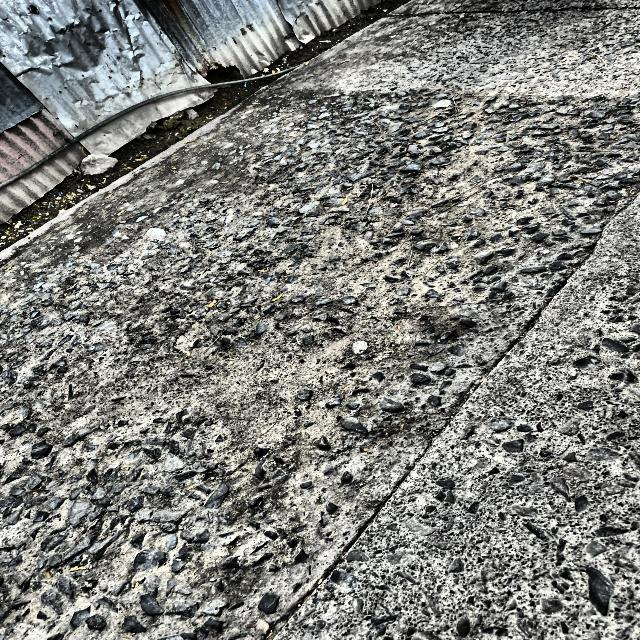major_scaling: (0, 134, 594, 619)
